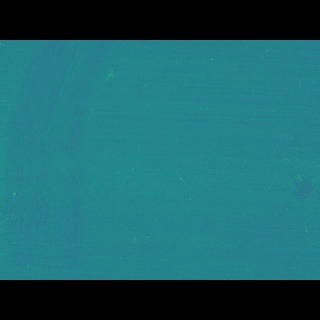Loch: (0, 68, 126, 251), (281, 162, 320, 198)
